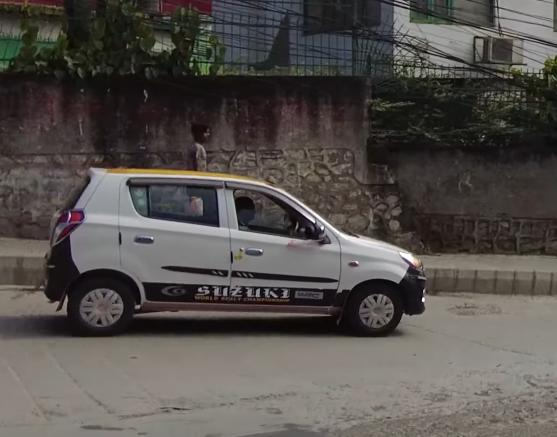taxi: (43, 159, 428, 344)
